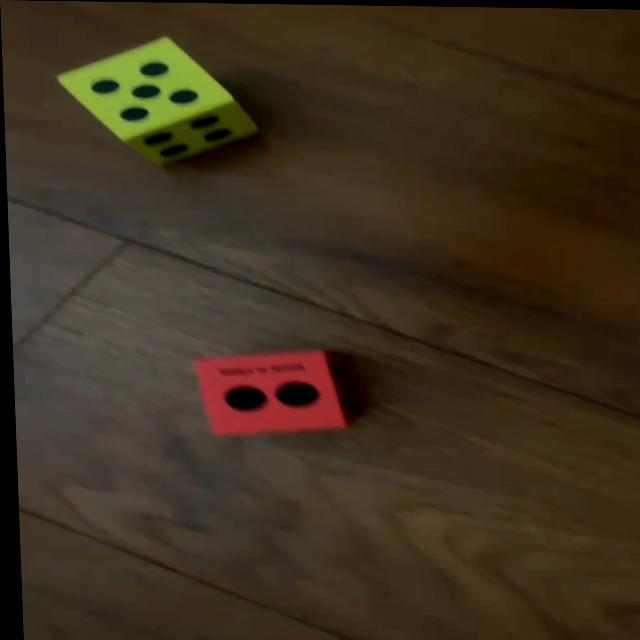red_block: (194, 348, 342, 436)
